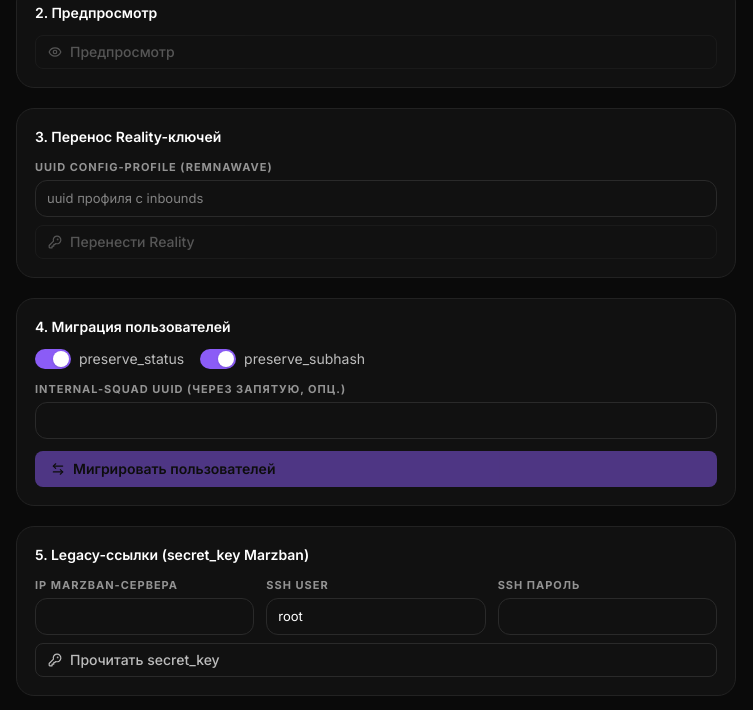
Test: Migration wizard › legacy secret is shown masked (type=password) after read
(page scrolled)
// IP is the last textbox in the legacy section
In the field labelled "IP Marzban-сервера": (145, 616) [35,598,254,635], type "1.2.3.4"
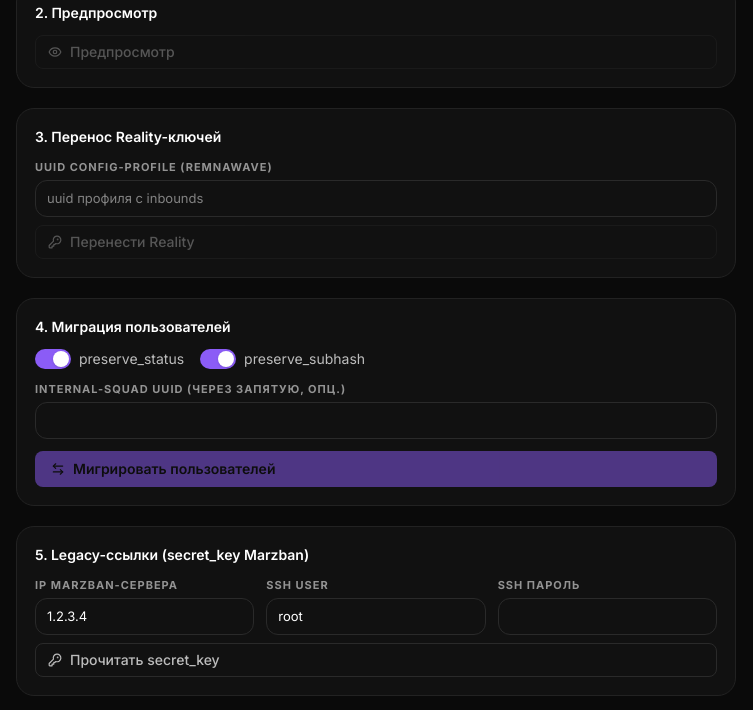
Click the button "Прочитать secret_key": (145, 660) [35,643,717,677]
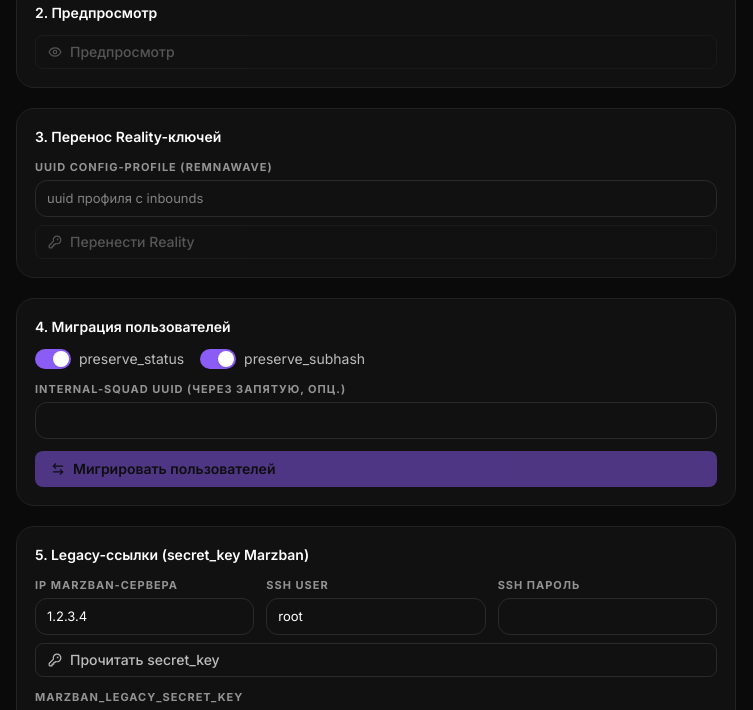
Now the text "MARZBAN_LEGACY_SECRET_KEY" is shown, box [35,690,243,704]
